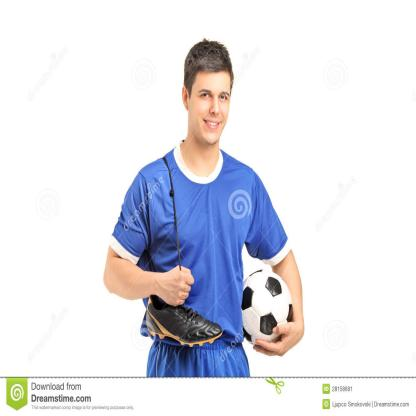ball: (241, 268, 294, 349)
